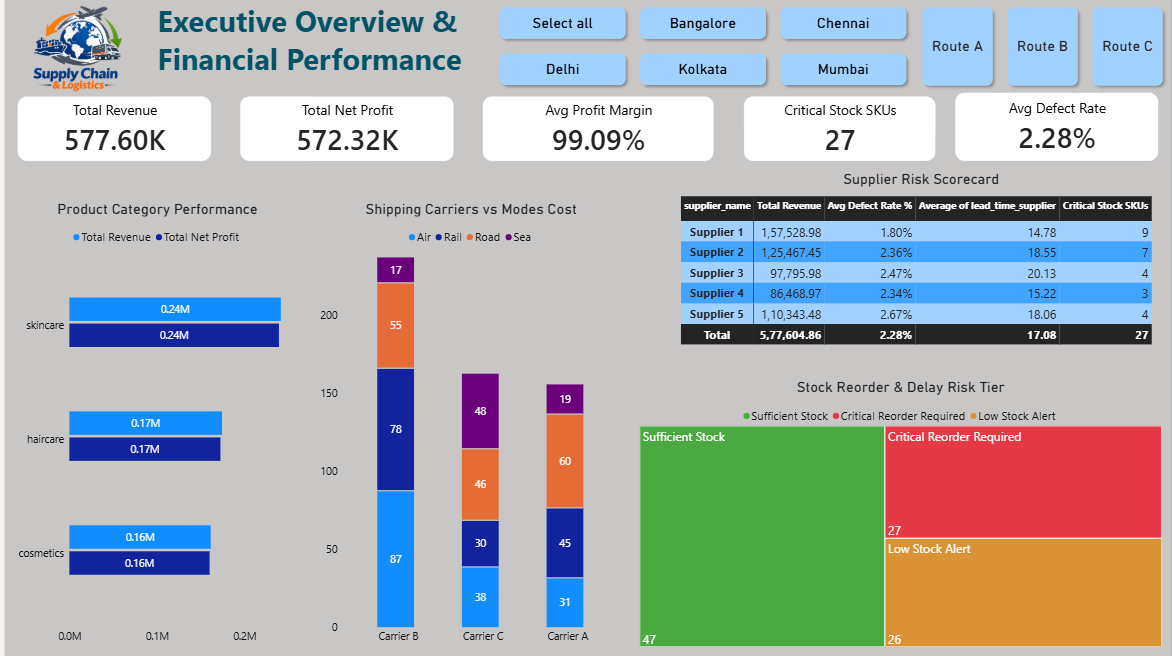

What the dashboard file says about the page in this screenshot:
{"tool":"powerbi","page":{"name":"Executive Overview & Financial Performance","canvas":[1920,1080],"ordinal":0},"visuals":[{"type":"cardVisual","fields":{"Data":["_Measures.Total Revenue"]},"box":[20.7,159.5,319,107.7],"z":0},{"type":"cardVisual","fields":{"Data":["_Measures.Avg Profit Margin %"]},"box":[787.2,159.5,381.2,107.7],"z":1000},{"type":"cardVisual","fields":{"Data":["_Measures.Critical Stock SKUs"]},"box":[1216.1,159.5,317,107.7],"z":2000},{"type":"cardVisual","fields":{"Data":["_Measures.Avg Defect Rate %"]},"box":[1564.1,153.3,335.6,113.9],"z":3000},{"type":"cardVisual","fields":{"Data":["_Measures.Total Net Profit"]},"box":[387.4,159.5,352.2,107.7],"z":4000},{"type":"clusteredBarChart","title":"Product Category Performance","fields":{"Category":["public supply_chain_data.product_type"],"Y":["_Measures.Total Revenue","_Measures.Total Net Profit"]},"box":[0,314.9,502.2,765.7],"z":5000},{"type":"pivotTable","title":"Supplier Risk Scorecard","fields":{"Rows":["public supply_chain_data.supplier_name"],"Values":["_Measures.Total Revenue","_Measures.Avg Defect Rate %","Avg(public supply_chain_data.lead_time_supplier)","_Measures.Critical Stock SKUs"]},"box":[1097.1,265.5,823.3,343.7],"z":6000},{"type":"columnChart","title":"Shipping Carriers vs Modes Cost","fields":{"Category":["public supply_chain_data.shipping_carriers"],"Y":["_Measures.Total Shipping Cost"],"Series":["public supply_chain_data.transportation_modes"]},"box":[502.2,314.9,531,765.7],"z":7000},{"type":"treemap","title":"Stock Reorder & Delay Risk Tier","fields":{"Group":["public supply_chain_data.stock_status"],"Values":["CountNonNull(public supply_chain_data.sku)"]},"box":[1029.2,609.3,891.3,471.4],"z":8000},{"type":"advancedSlicerVisual","fields":{"Values":["public supply_chain_data.location"]},"box":[802.7,0,695.7,152.3],"z":9000},{"type":"advancedSlicerVisual","fields":{"Values":["public supply_chain_data.routes"]},"box":[1497.8,0,422.6,153.3],"z":10000},{"type":"textbox","box":[251.1,0,535.2,152.3],"z":11000},{"type":"image","box":[0,0,251.1,177],"z":12000}]}

Visuals, with their boxes in screenshot pixels (x1, y1, x2, y2), scaled from the page's 1920x1080 canvas onto the 1172x656 screenshot:
cardVisual - _Measures.Total Revenue: region(13, 97, 207, 162)
cardVisual - _Measures.Avg Profit Margin %: region(481, 97, 713, 162)
cardVisual - _Measures.Critical Stock SKUs: region(742, 97, 936, 162)
cardVisual - _Measures.Avg Defect Rate %: region(955, 93, 1160, 162)
cardVisual - _Measures.Total Net Profit: region(236, 97, 451, 162)
"Product Category Performance" clusteredBarChart: region(0, 191, 307, 655)
"Supplier Risk Scorecard" pivotTable: region(670, 161, 1171, 370)
"Shipping Carriers vs Modes Cost" columnChart: region(307, 191, 631, 655)
"Stock Reorder & Delay Risk Tier" treemap: region(628, 370, 1171, 655)
advancedSlicerVisual - public supply_chain_data.location: region(490, 0, 915, 93)
advancedSlicerVisual - public supply_chain_data.routes: region(914, 0, 1171, 93)
textbox: region(153, 0, 480, 93)
image: region(0, 0, 153, 108)
